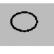no answer: (8, 10, 44, 34)
